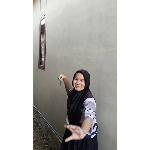Pisau: (58, 74, 62, 89)
